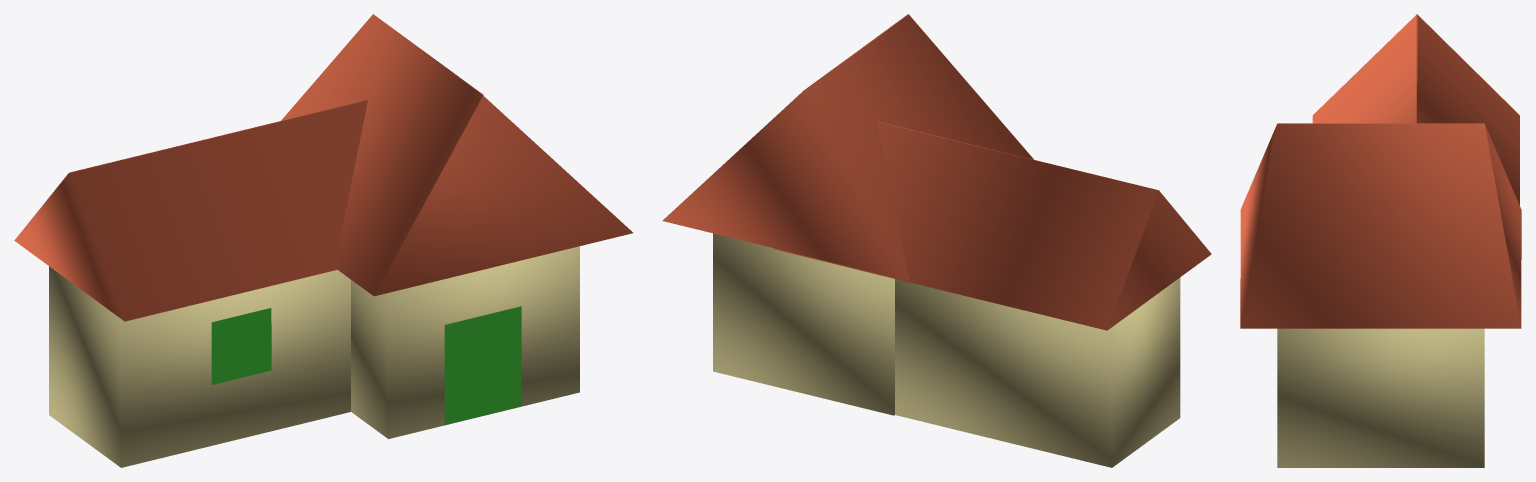
The model's file is kiki_house.glb.
The picture shows the model from 3 angles, left to right: view 1: azimuth 30°, elevation 25°; view 2: azimuth 150°, elevation 25°; view 3: azimuth 270°, elevation 25°; orthographic projection. The views are drawn at different scales.
Parts seen in each view (by area): view 1: Cube; view 2: Cube; view 3: Cube.
Part boxes in pixels (x1,y1,x2,y2): Cube: [14, 14, 632, 467]; Cube: [662, 14, 1211, 467]; Cube: [1240, 14, 1521, 467].
Bounding box in the file's own units: 4.91 × 3.2 × 2.71.
Materials: 1 (1 with a texture image).
